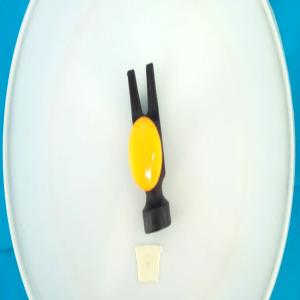martelo: (126, 60, 172, 235)
